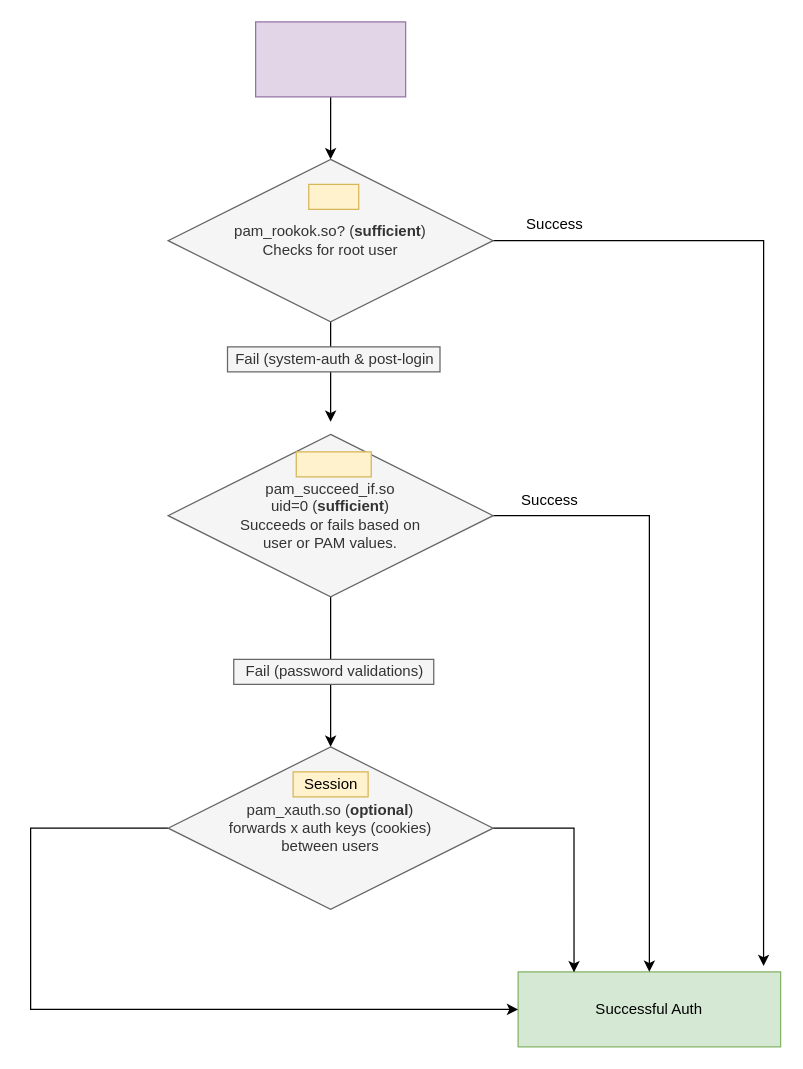
The diagram is 803 pixels wide and 1069 high, and some of its shapes have lost their labels. The box of each missing label's shape, as (x1, y1, x2, y2) in pixels:
Account: (295, 451, 371, 477)
Auth: (308, 183, 359, 209)
Validation Request: (254, 21, 406, 97)
